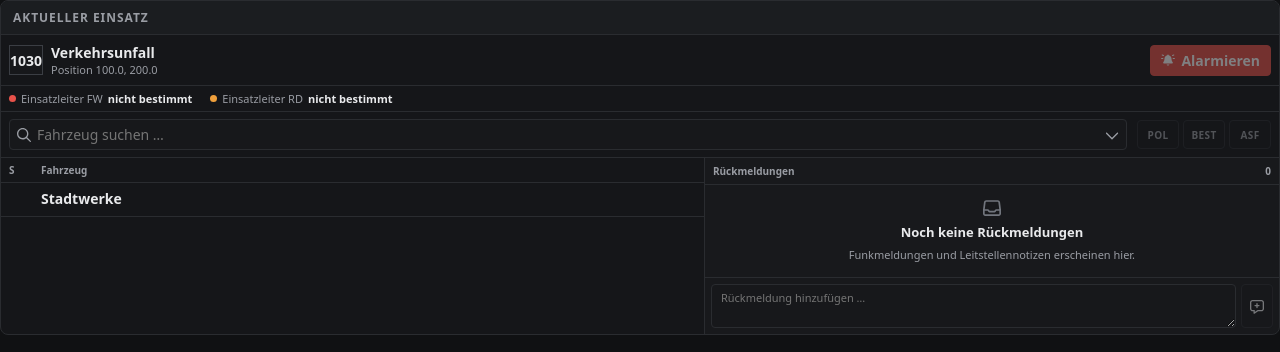
Test case: Aktueller Einsatz › merkt eine bereits zugeordnete versteckte Einheit über die Suche erneut vor
The width and height of the screenshot is (1280, 352).
Type "Stadtwerke" into the field with placeholder "Fahrzeug suchen …" at (568, 134), box [37,120,1099,149]
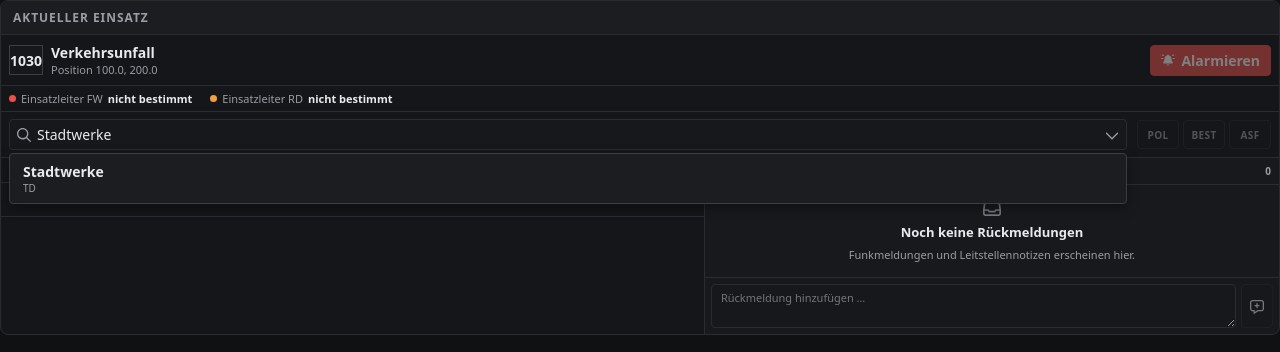
Click the button "Stadtwerke TD" at (63, 172), box [13,157,1123,200]
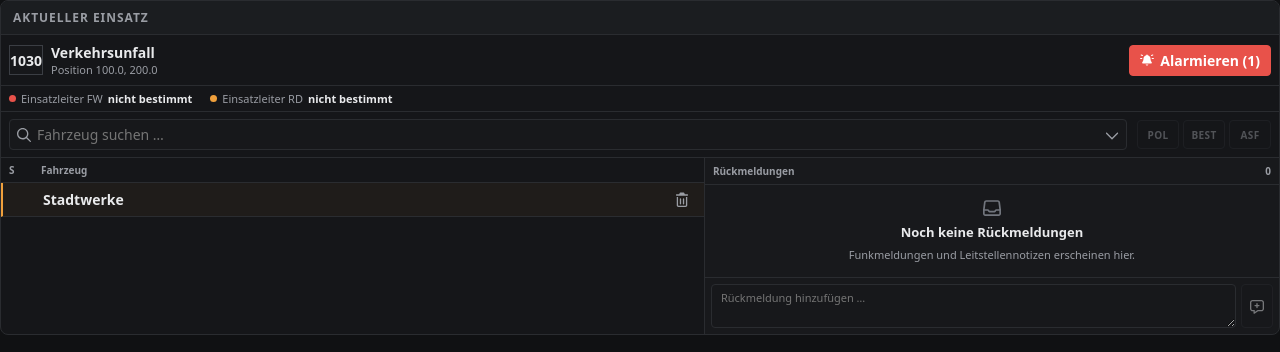
expect the button named "Stadtwerke entfernen" is shown: met, box [668,188,696,210]
